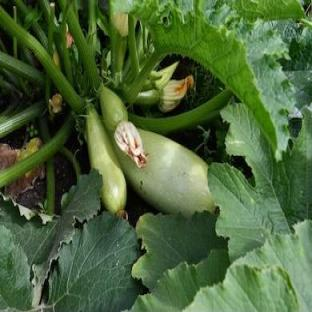Zucchini: (85, 107, 126, 213)
